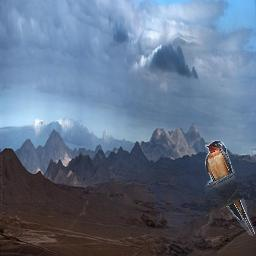Swallow: (205, 140, 255, 236)
